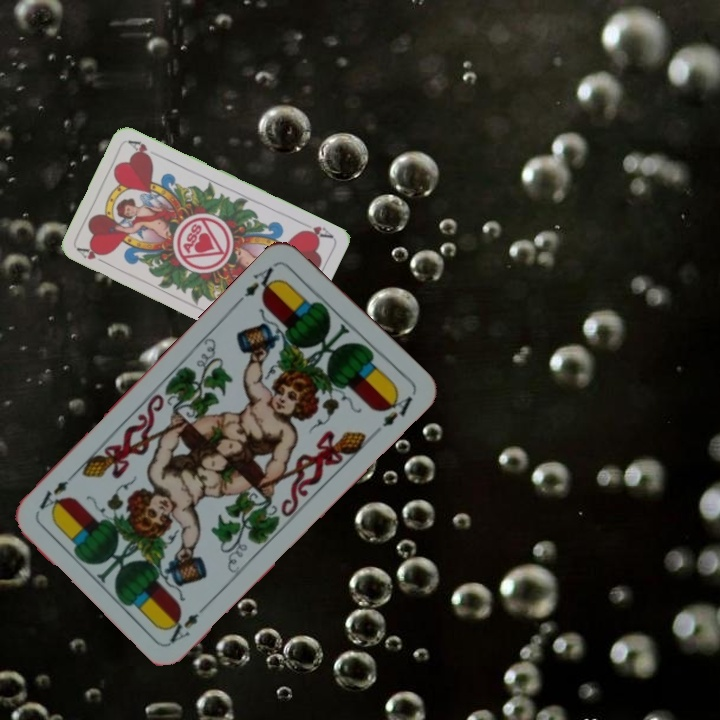EA: (165, 598, 212, 646), (233, 263, 282, 305)
HA: (74, 243, 112, 268), (296, 218, 335, 242)
